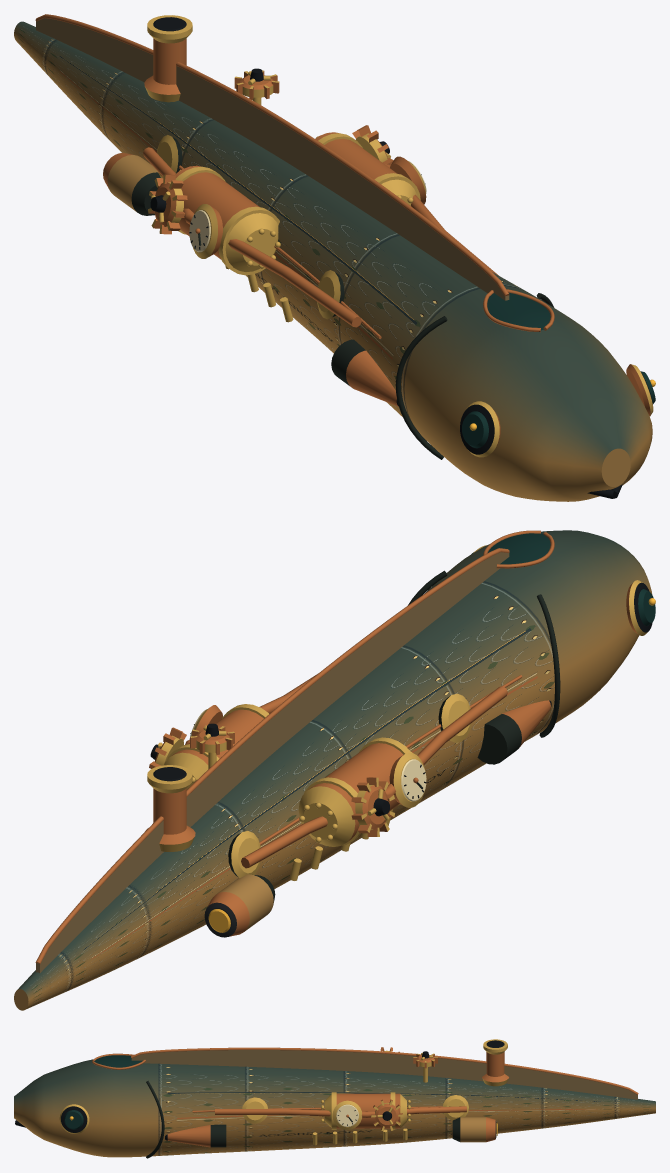
3 views of the same model, one above another, from view 1: azimuth 30°, elevation 25°; view 2: azimuth 150°, elevation 25°; view 3: azimuth 270°, elevation 25° (orthographic). The views are drawn at different scales.
Visible parts, largest first — view 1: moray_hull; view 2: moray_hull; view 3: moray_hull.
Boxes of the visible parts, box(x1,y1,x2,y2) form: moray_hull: box(14, 14, 655, 501); moray_hull: box(14, 530, 655, 1010); moray_hull: box(14, 1039, 655, 1158).
Bounding box in the file's own units: 9.58 × 7.84 × 42.
Materials: 1 (1 with a texture image).
